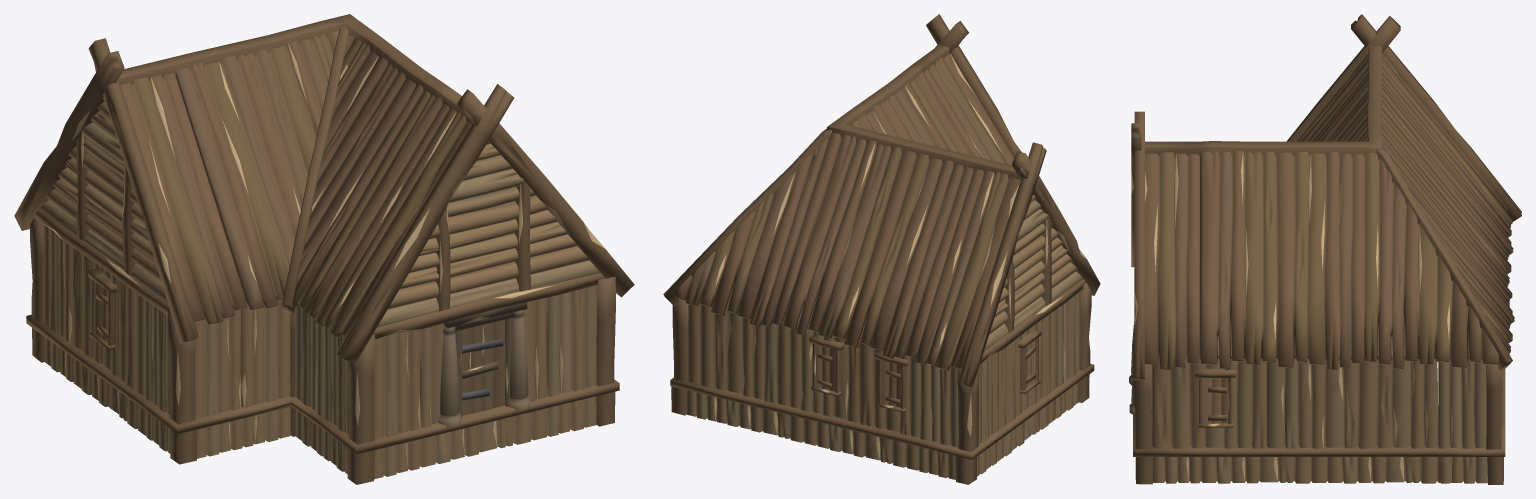
Rendered from rpgpp_lt_building_05 -col.glb.
The picture shows the model from 3 angles, left to right: view 1: azimuth 30°, elevation 25°; view 2: azimuth 150°, elevation 25°; view 3: azimuth 270°, elevation 25°; orthographic projection. The views are drawn at different scales.
Visible parts, largest first — view 1: rpgpp_lt_building_05 -col; view 2: rpgpp_lt_building_05 -col; view 3: rpgpp_lt_building_05 -col.
Boxes of the visible parts, x1,y1,x2,y2 form: rpgpp_lt_building_05 -col: [14, 14, 634, 484]; rpgpp_lt_building_05 -col: [663, 14, 1100, 484]; rpgpp_lt_building_05 -col: [1129, 14, 1521, 484].
Size of the model in its own units: 11.26 by 9.94 by 11.31.
Materials: 1 (1 with a texture image).
